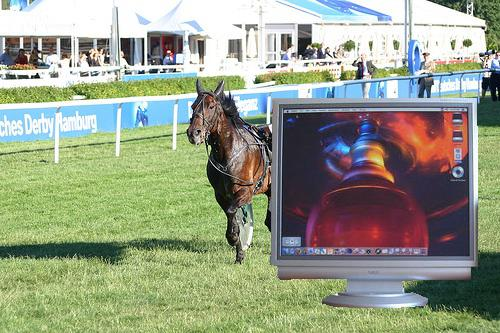tampered: (271, 99, 478, 308)
